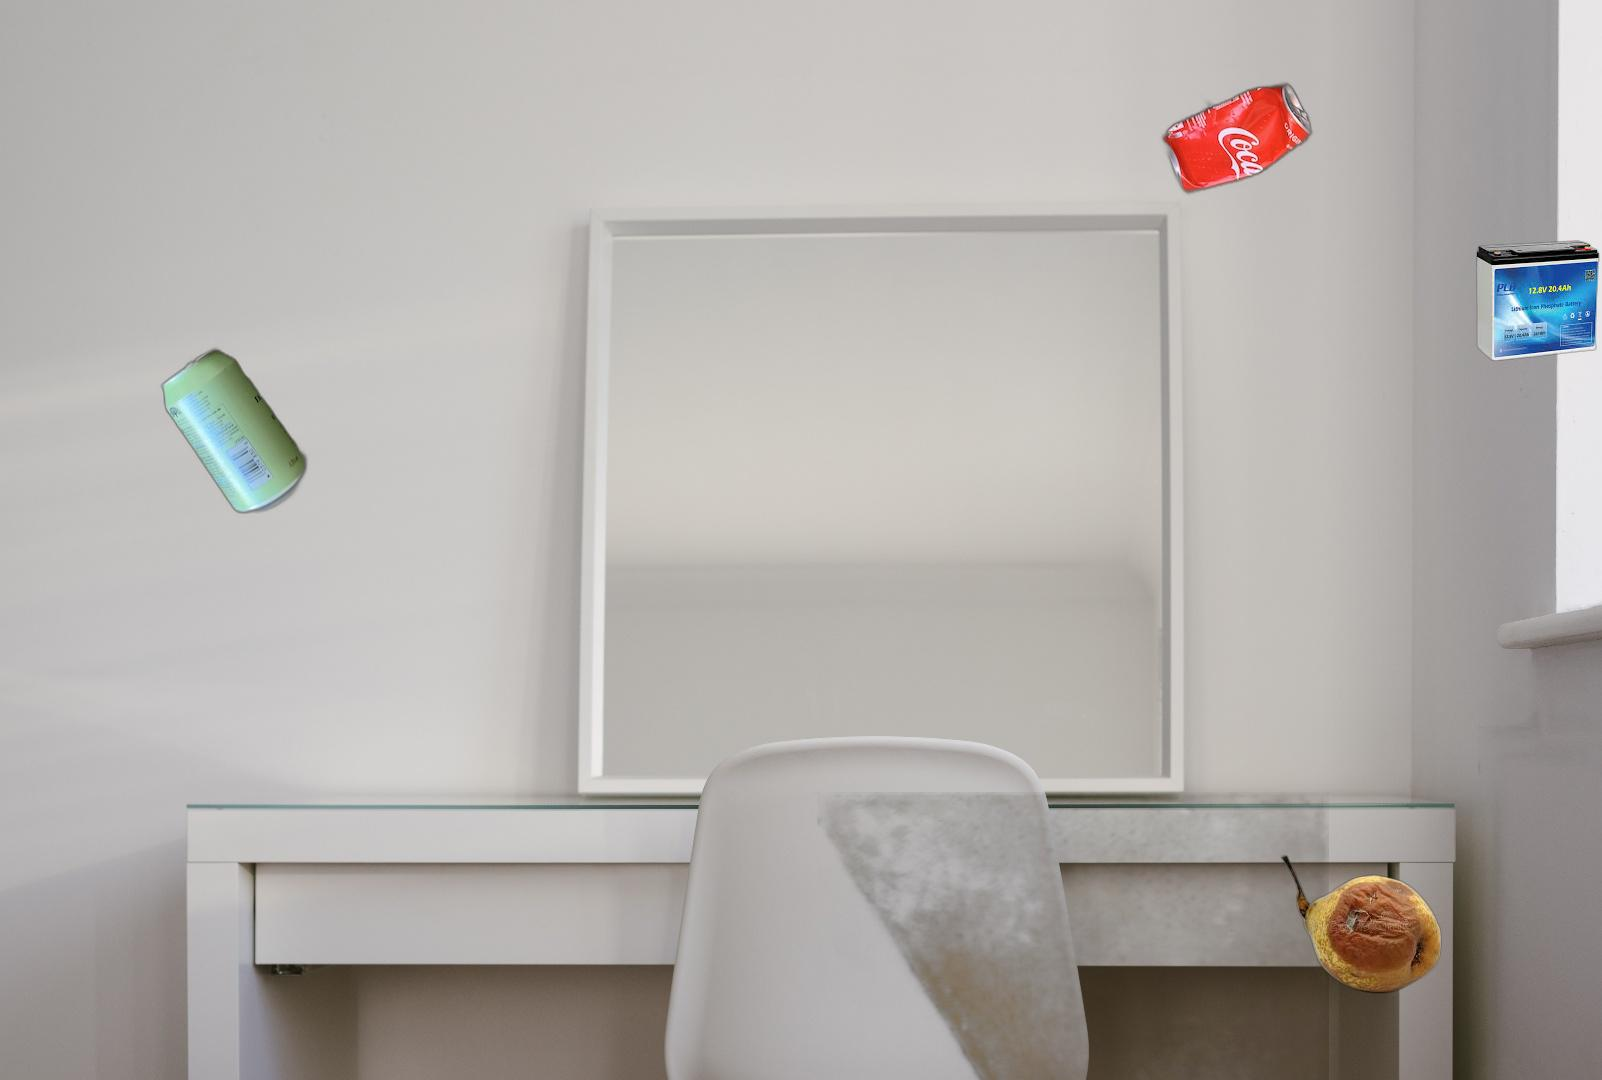battery: (1474, 237, 1602, 364)
biological: (1278, 852, 1443, 996)
metal-cans: (1157, 78, 1602, 574), (157, 344, 311, 520)
trashbox-cardboard: (817, 792, 1330, 1080), (1478, 526, 1602, 896)
